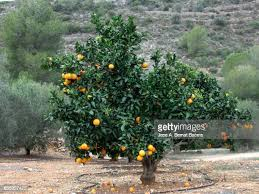orange: (140, 62, 149, 70), (92, 118, 99, 127), (146, 145, 153, 151)
